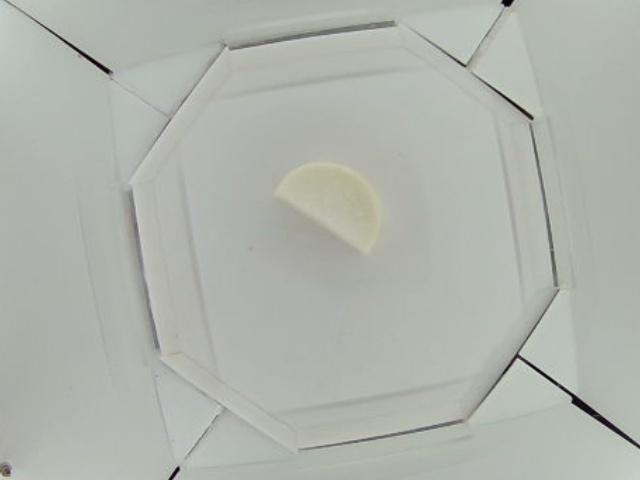Mooli: (272, 163, 385, 255)
